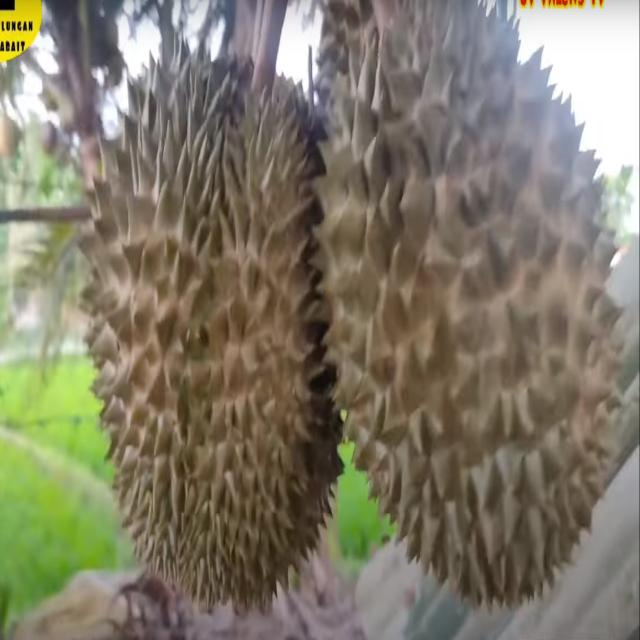mature: (310, 0, 626, 617), (75, 30, 348, 622)
